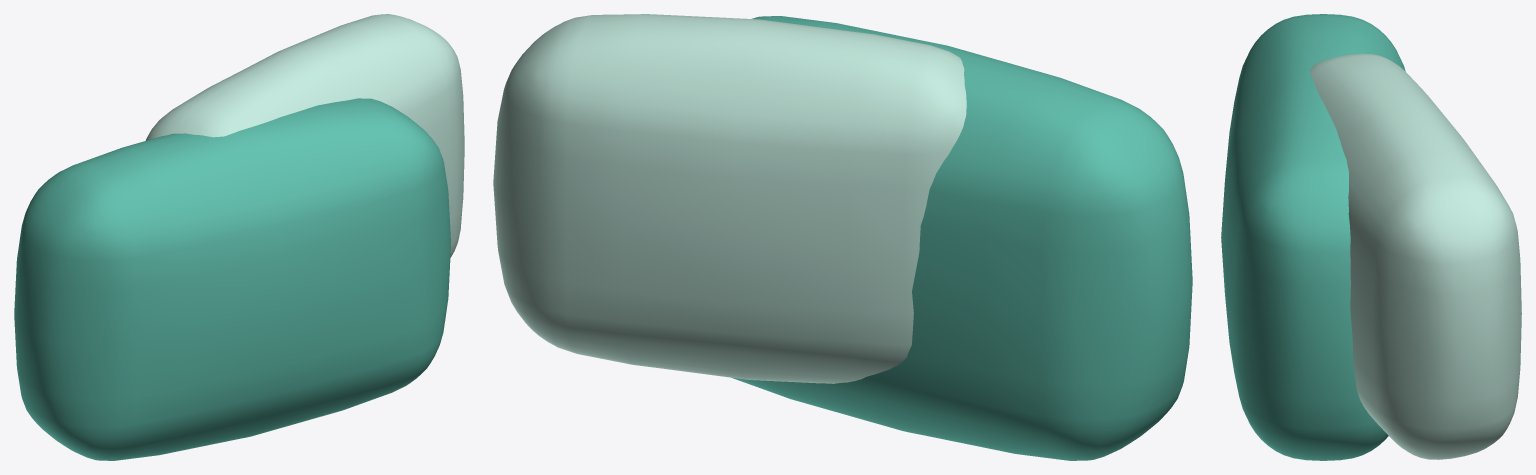
Rendered from cushions_a.glb.
3 renders of one model, left to right at view 1: azimuth 30°, elevation 25°; view 2: azimuth 150°, elevation 25°; view 3: azimuth 270°, elevation 25°, orthographic. The views are drawn at different scales.
Visible parts, largest first — view 1: body; view 2: body; view 3: body.
Part boxes in pixels (x1=…): body: x1=14, y1=14, x2=464, y2=460; body: x1=493, y1=14, x2=1192, y2=460; body: x1=1221, y1=14, x2=1521, y2=460.
Bounding box in the file's own units: 0.4738 × 0.3 × 0.2352.
